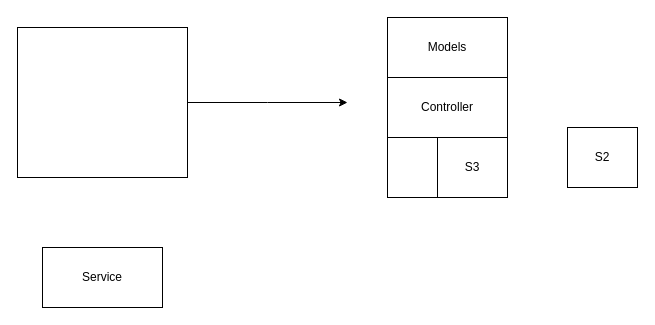
Some shapes in this 655 by 325 pixel diagram are drawn without their labels. The centre of each missing label's shape, as x and y in pixels:
"S1" belongs at [412,167].
"Single Java File" belongs at [102,102].
